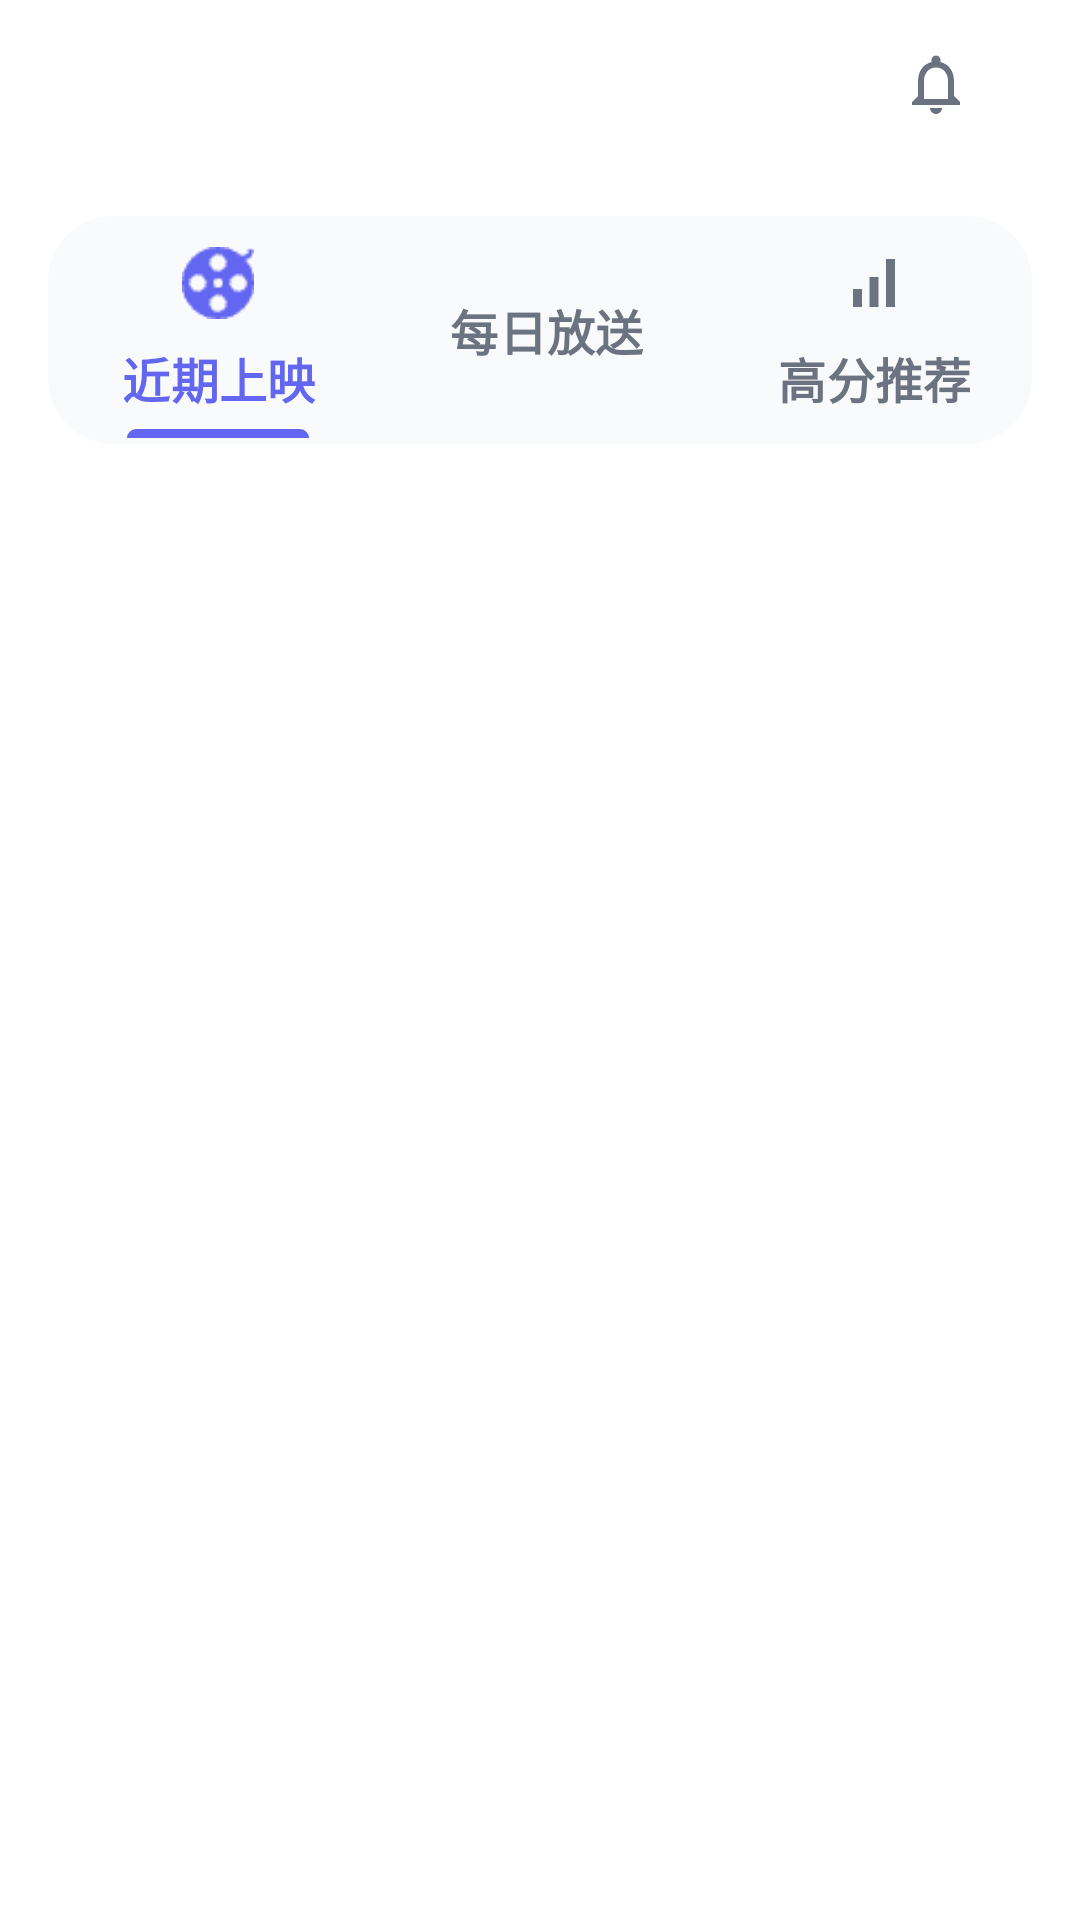

Named icons in this screenshot (1080px x 1920px) and their bounding boxes, (x1, y1, x2, y2):
通知: (912, 55, 960, 114)
